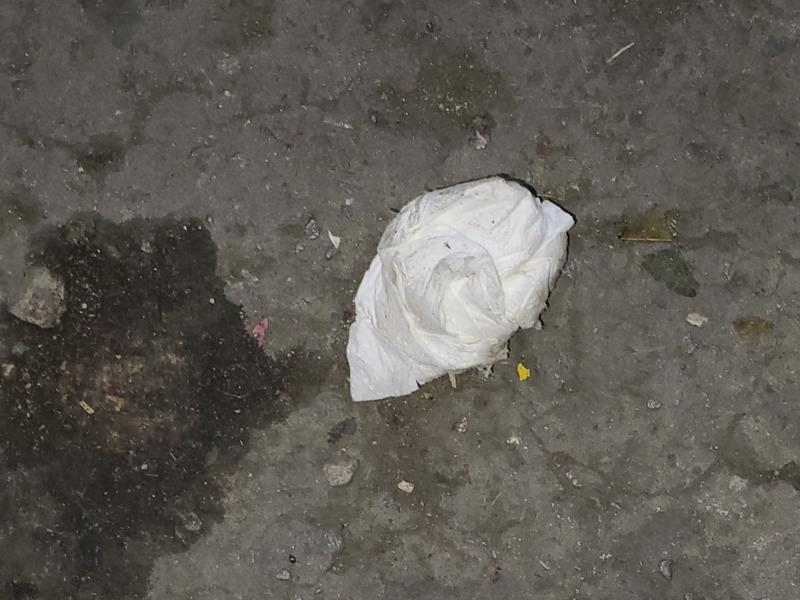papel: (345, 177, 576, 403)
